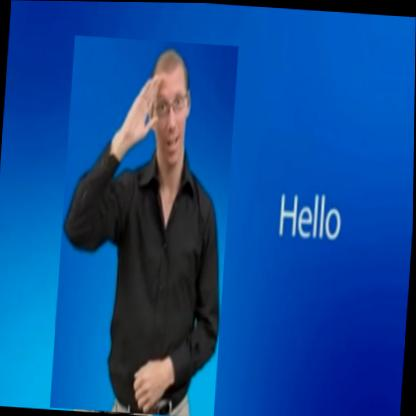Hello: (51, 35, 238, 416)
